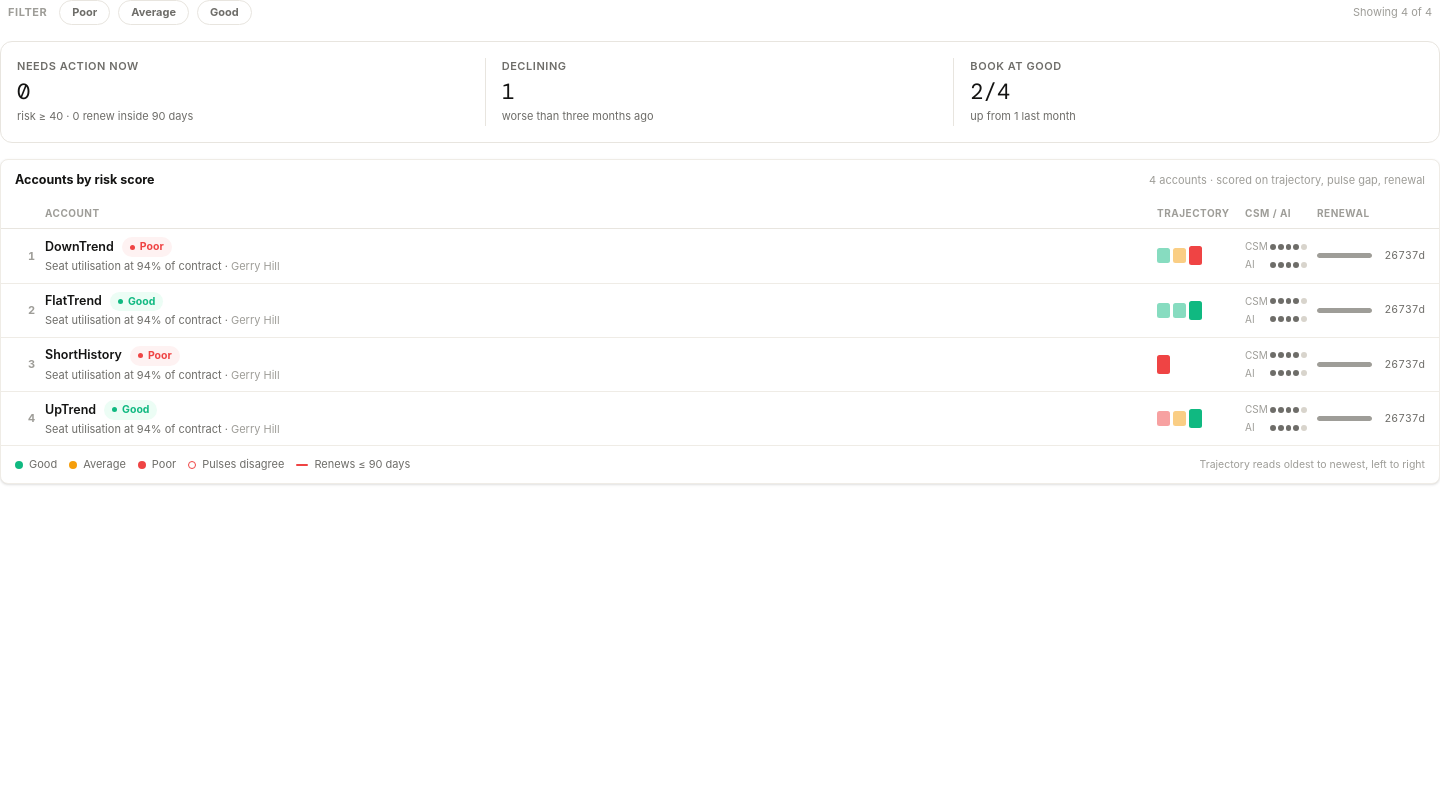
Test: TriageView drill › "Declining" opens exactly the accounts whose trajectory fell
Step 1. Click the button with aria-label "Declining 1, show accounts" → (534, 66), box [498, 54, 933, 128]
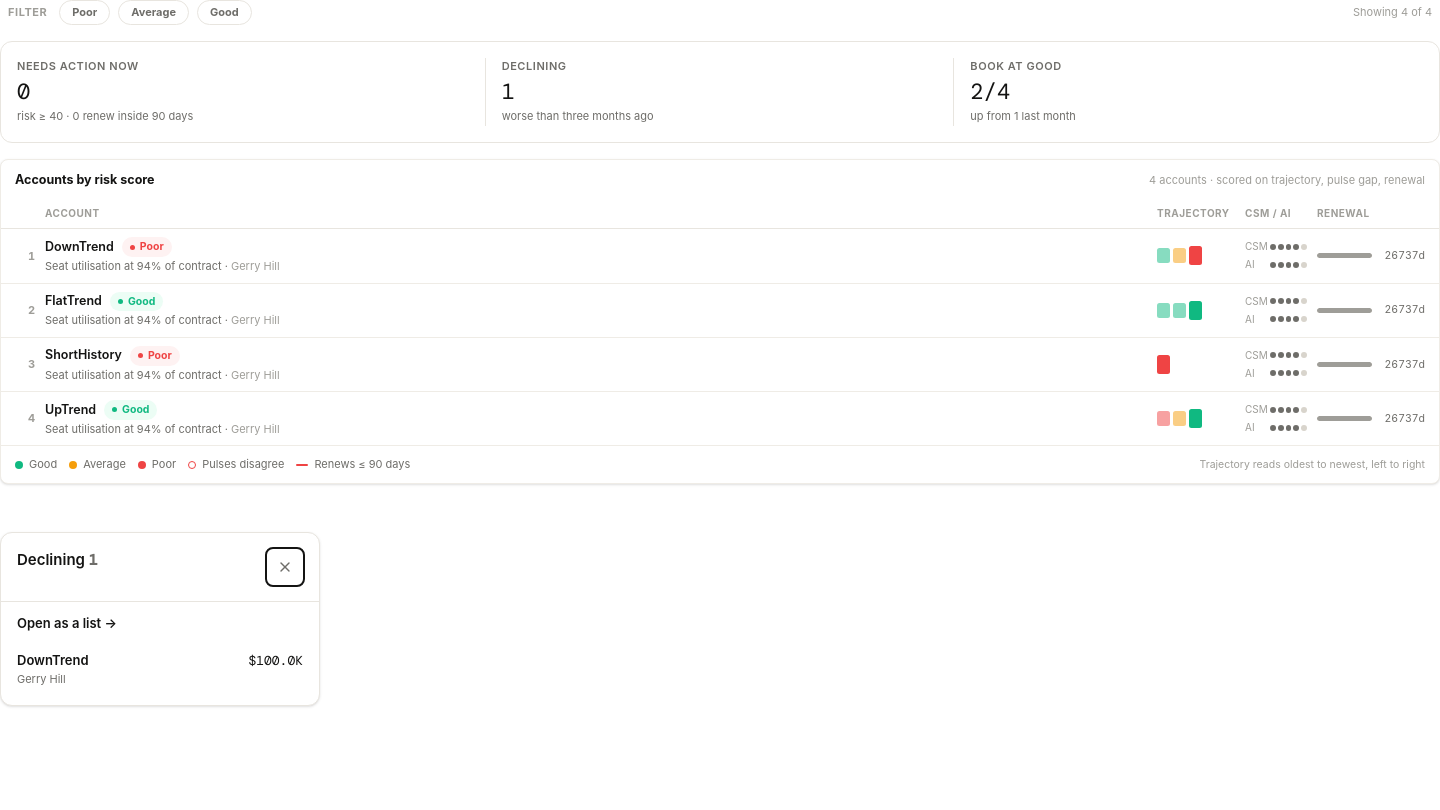
Expected: the link "DownTrend" is shown, [17, 651, 88, 671]
